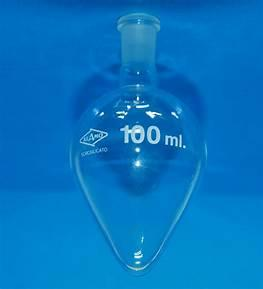Pear shaped flask: (77, 19, 208, 274)
